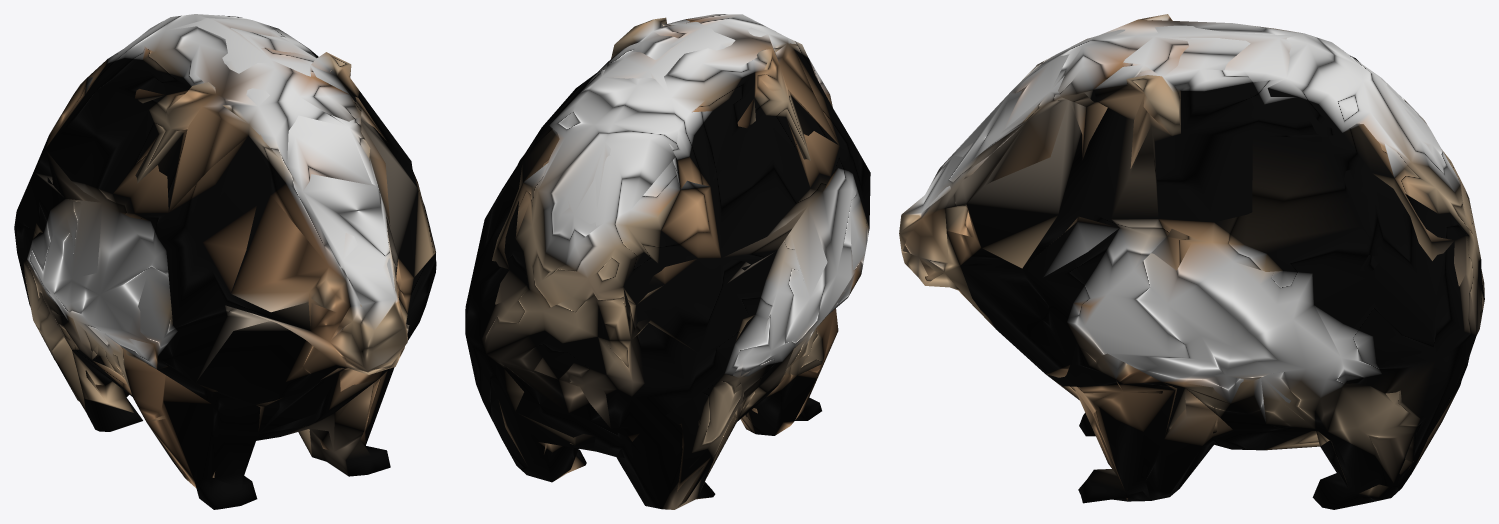
Rendered from gen3d-skunk-lod0.glb.
3 renders of one model, left to right at view 1: azimuth 30°, elevation 25°; view 2: azimuth 150°, elevation 25°; view 3: azimuth 270°, elevation 25°, orthographic. The views are drawn at different scales.
Parts seen in each view (by area): view 1: part_0; view 2: part_0; view 3: part_0.
Part boxes in pixels (x1,y1,x2,y2): part_0: [14, 14, 436, 509]; part_0: [465, 14, 870, 509]; part_0: [899, 14, 1484, 509].
Size of the model in its own units: 0.7693 by 0.992 by 1.23.
